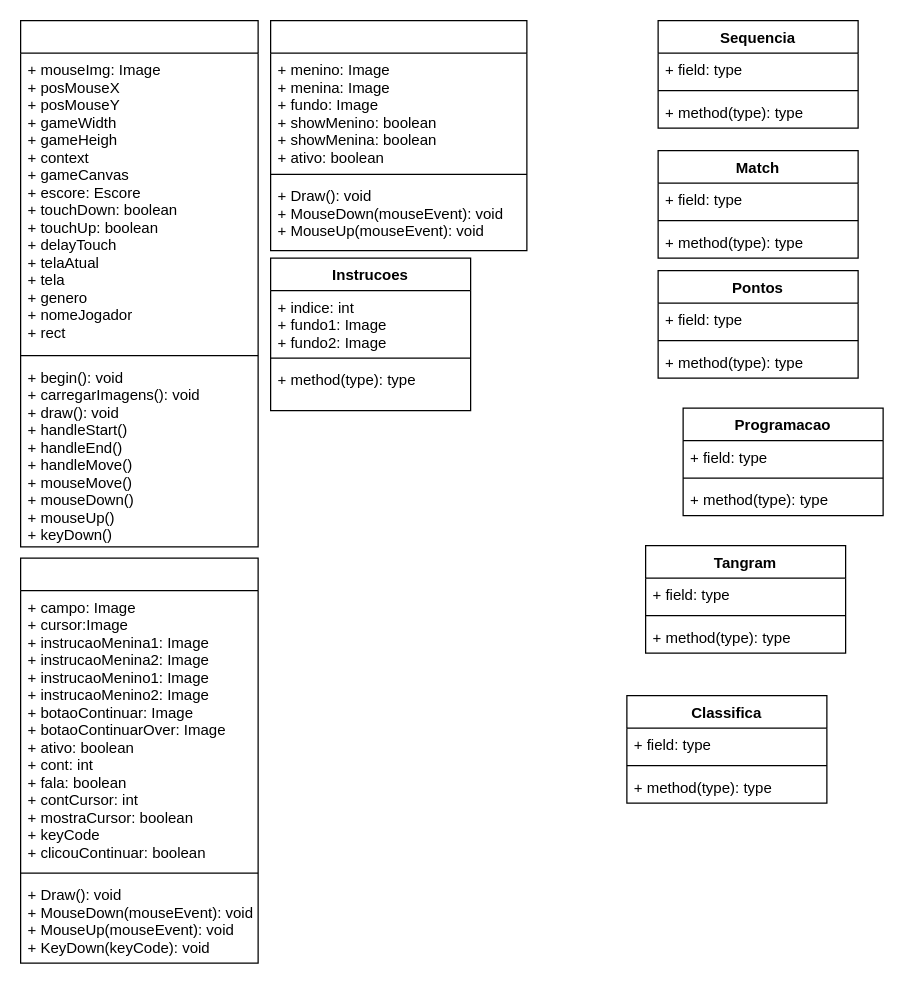
Some shapes in this 904 by 984 pixel diagram are drawn without their labels. The box of each missing label's shape, as (x1, y1, x2, y2) in pixels:
main.js: (19, 19, 258, 547)
TelaEscolha.js: (269, 19, 527, 251)
TelaNome: (19, 557, 258, 963)
